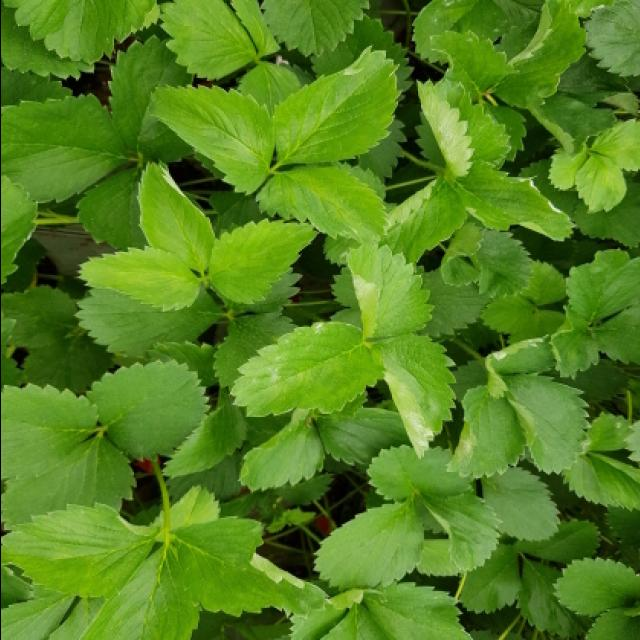Powdery Mildew Leaf: (228, 321, 384, 419), (363, 335, 458, 461), (443, 161, 577, 246), (417, 79, 514, 178), (137, 161, 215, 274), (346, 242, 433, 343), (482, 333, 556, 399)
